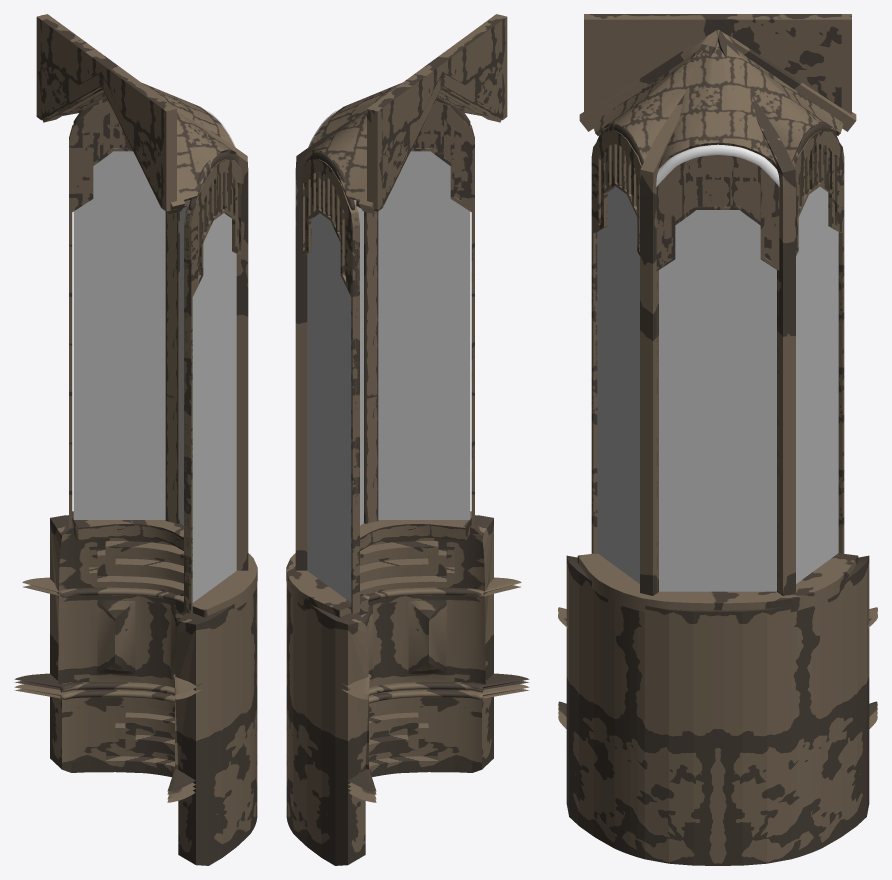
The model's file is janela.fbx.
The picture shows the model from 3 angles, left to right: view 1: azimuth 30°, elevation 25°; view 2: azimuth 150°, elevation 25°; view 3: azimuth 270°, elevation 25°; orthographic projection. The views are drawn at different scales.
Parts seen in each view (by area): view 1: window_wall.005, image.001, frame.collums.007, trilobado.side.002, frame.collums.005, frame.collums.008, frame.collums.006, trilobado.side.003, frame.008; view 2: window_wall.005, image.001, frame.collums.007, trilobado.side.002, frame.collums.005, frame.collums.008, frame.collums.006, trilobado.side.003, frame.008; view 3: window_wall.005, image.001, frame.collums.005, frame.collums.007, frame.collums.006, trilobado.side.002, frame.collums.008, trilobado.009, trilobado.005, trilobado.side.003, frame.007, frame.008.
Part boxes in pixels (x1=…): window_wall.005: x1=14, y1=515, x2=257, y2=865; image.001: x1=73, y1=151, x2=236, y2=602; frame.collums.007: x1=36, y1=14, x2=176, y2=211; trilobado.side.002: x1=69, y1=100, x2=241, y2=613; frame.collums.005: x1=43, y1=88, x2=248, y2=570; frame.collums.008: x1=72, y1=511, x2=257, y2=617; frame.collums.006: x1=63, y1=82, x2=239, y2=201; trilobado.side.003: x1=69, y1=112, x2=238, y2=613; frame.008: x1=73, y1=97, x2=239, y2=210; window_wall.005: x1=286, y1=515, x2=529, y2=865; image.001: x1=307, y1=151, x2=470, y2=602; frame.collums.007: x1=367, y1=14, x2=507, y2=211; trilobado.side.002: x1=302, y1=100, x2=474, y2=613; frame.collums.005: x1=295, y1=88, x2=500, y2=570; frame.collums.008: x1=286, y1=511, x2=471, y2=617; frame.collums.006: x1=304, y1=82, x2=480, y2=201; trilobado.side.003: x1=305, y1=112, x2=474, y2=601; frame.008: x1=304, y1=97, x2=470, y2=210; window_wall.005: x1=558, y1=555, x2=877, y2=865; image.001: x1=597, y1=186, x2=838, y2=591; frame.collums.005: x1=579, y1=30, x2=856, y2=595; frame.collums.007: x1=584, y1=14, x2=851, y2=114; frame.collums.006: x1=592, y1=42, x2=843, y2=169; trilobado.side.002: x1=591, y1=130, x2=844, y2=592; frame.collums.008: x1=577, y1=553, x2=858, y2=612; trilobado.009: x1=656, y1=155, x2=779, y2=270; trilobado.005: x1=664, y1=166, x2=771, y2=260; trilobado.side.003: x1=595, y1=144, x2=840, y2=470; frame.007: x1=656, y1=144, x2=779, y2=186; frame.008: x1=596, y1=121, x2=839, y2=165.
Bounding box in the file's own units: 721 × 3645 × 1346.
